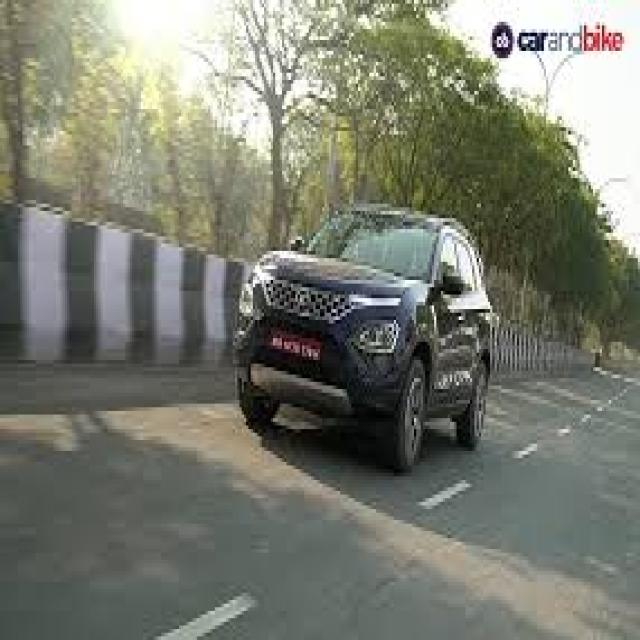cars: (216, 199, 504, 495)
